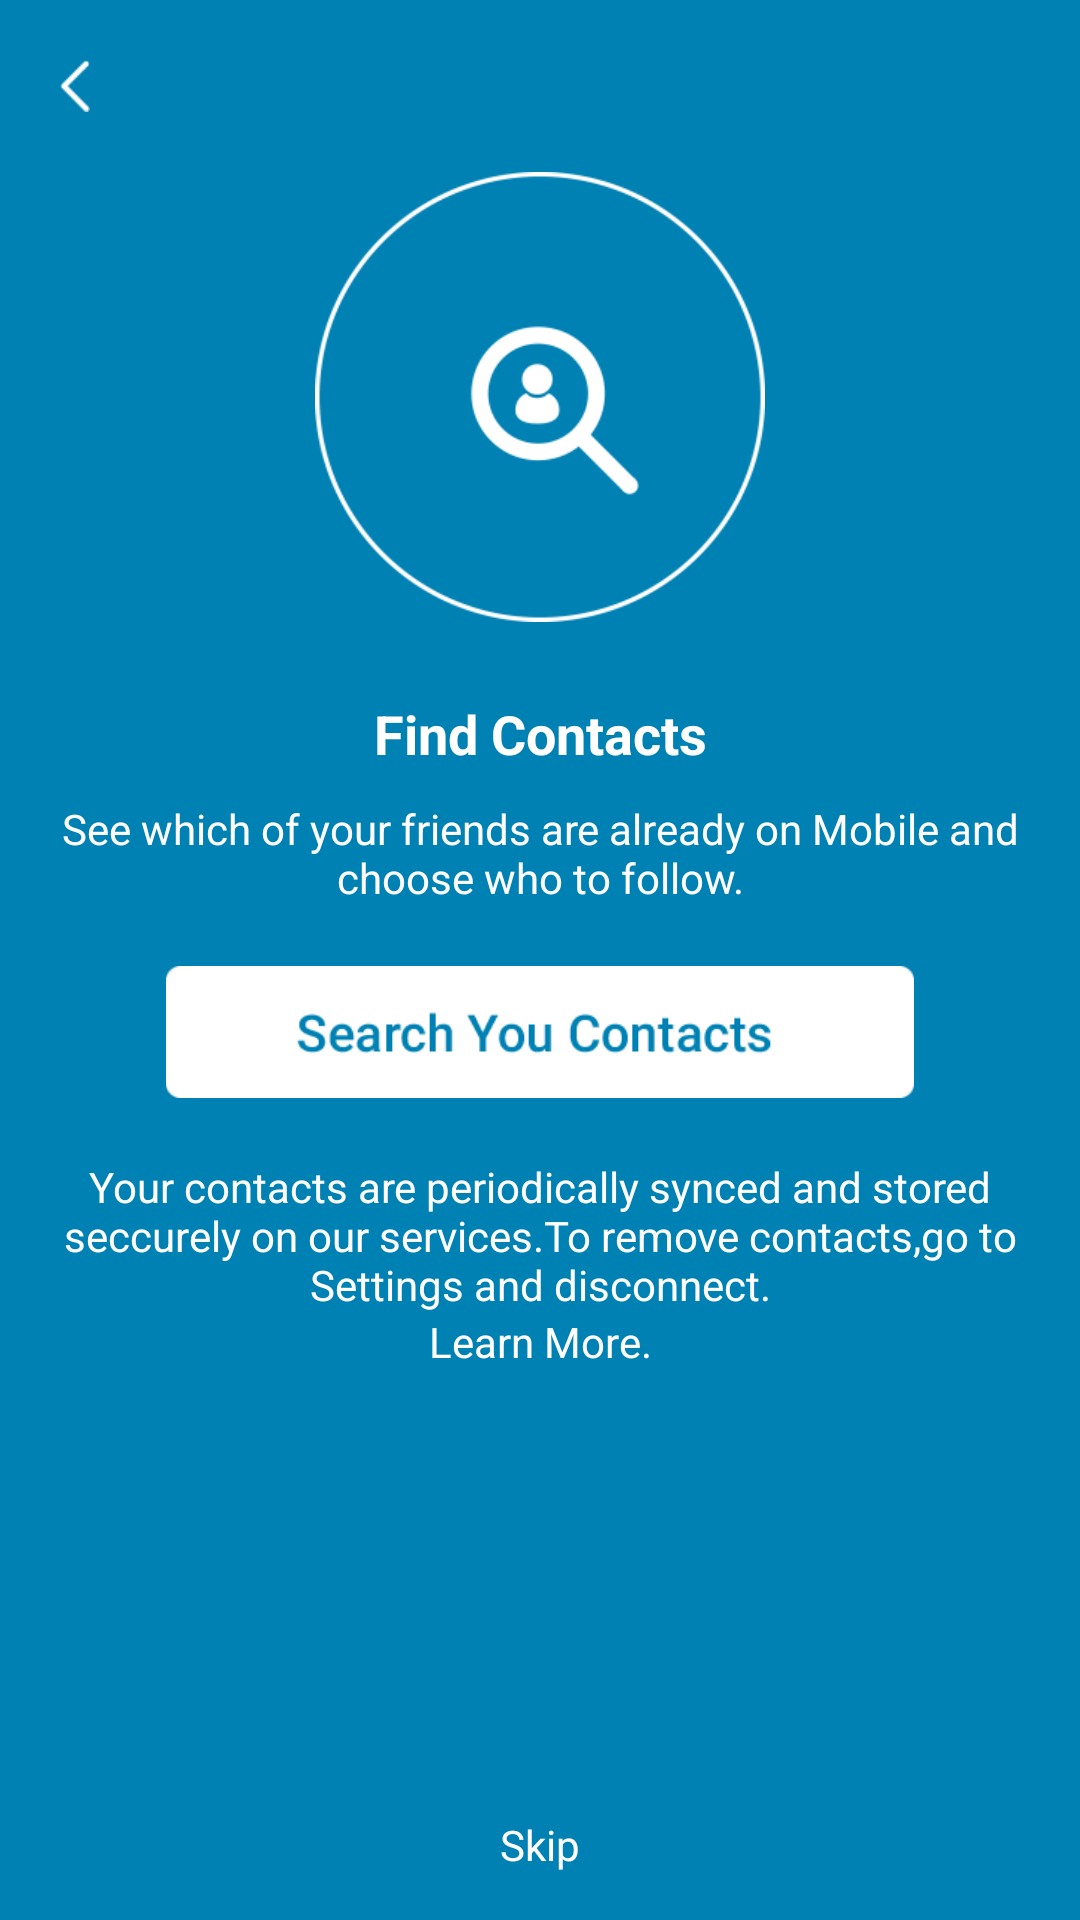

Named icons in this screenshot (1080×1920) and their bounding boxes, (x1, y1, x2, y2):
back: (60, 60, 90, 112)
